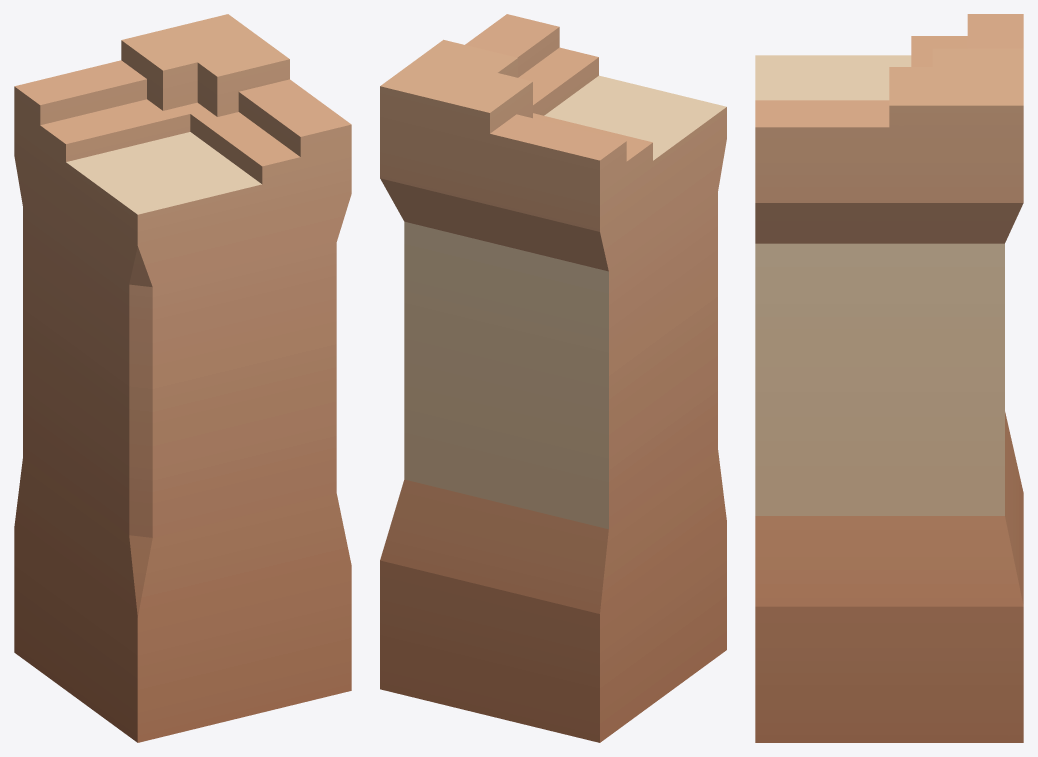
File: wall-narrow-corner.glb
3 views of the same model, side by side, from view 1: azimuth 30°, elevation 25°; view 2: azimuth 150°, elevation 25°; view 3: azimuth 270°, elevation 25° (orthographic). The views are drawn at different scales.
Parts seen in each view (by area): view 1: wall-narrow-corner; view 2: wall-narrow-corner; view 3: wall-narrow-corner.
Part boxes in pixels (x1=…): wall-narrow-corner: x1=14, y1=14, x2=351, y2=742; wall-narrow-corner: x1=380, y1=14, x2=726, y2=742; wall-narrow-corner: x1=755, y1=14, x2=1023, y2=742.
Size of the model in its own units: 0.4999 by 1.31 by 0.4999.
1 material, 1 textured.
